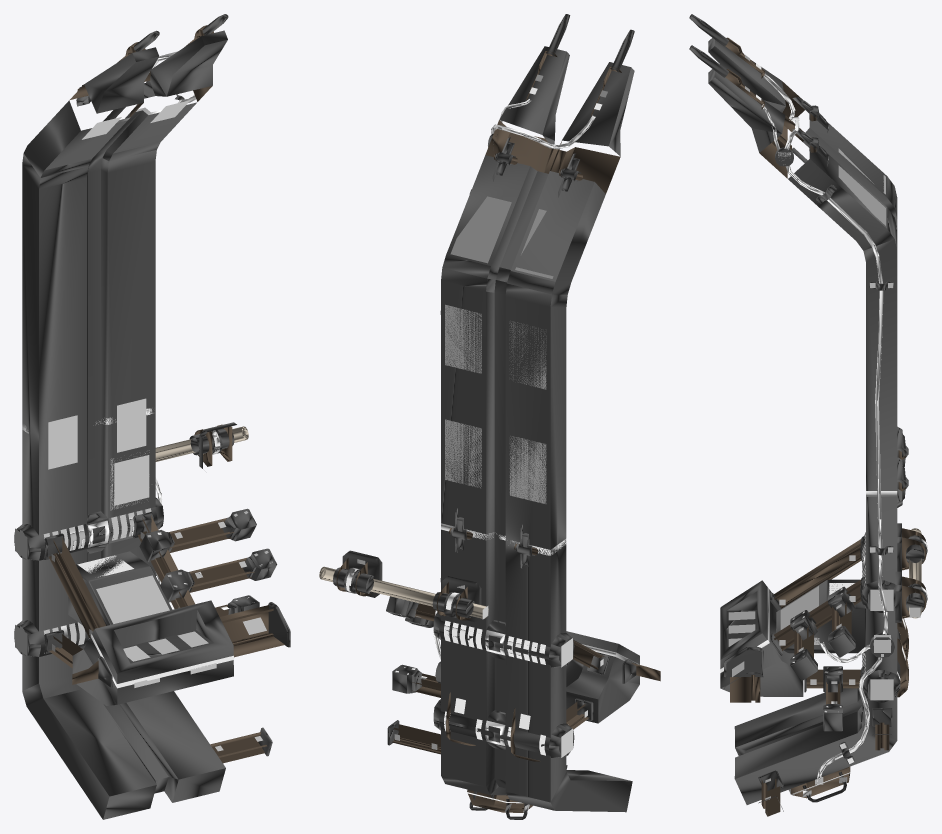
File: faraday_cage002_Left.glb
The picture shows the model from 3 angles, left to right: view 1: azimuth 30°, elevation 25°; view 2: azimuth 150°, elevation 25°; view 3: azimuth 270°, elevation 25°; orthographic projection. The views are drawn at different scales.
Size of the model in its own units: 2.23 by 6.6 by 1.9.
